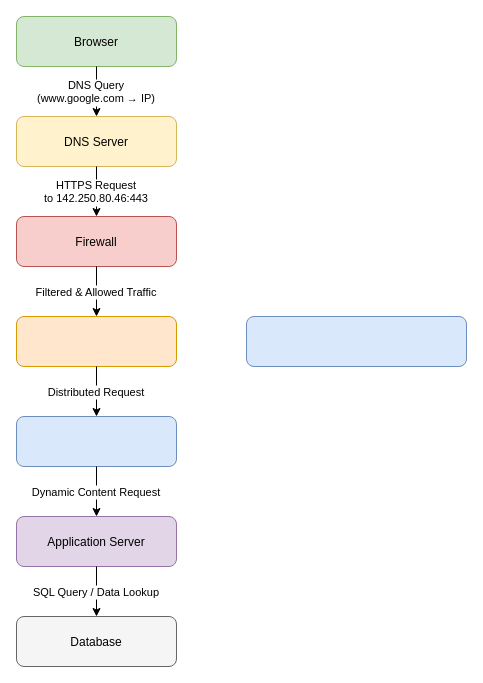
The diagram is 483 pixels wide and 683 high, and some of its shapes have lost their labels. Each missing label, with the centre of its shape:
"Load Balancer" goes at (x=96, y=341).
"Web Server (Port 443)" goes at (x=96, y=441).
"🔒 All traffic encrypted via TLS/HTTPS" goes at (x=356, y=341).
